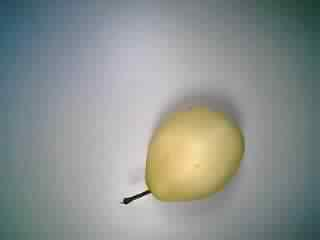pear: (110, 95, 253, 215)
